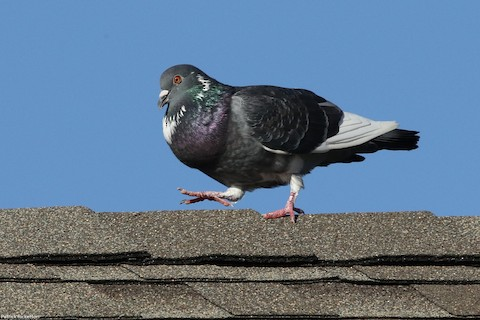pigeon: (156, 62, 425, 223)
